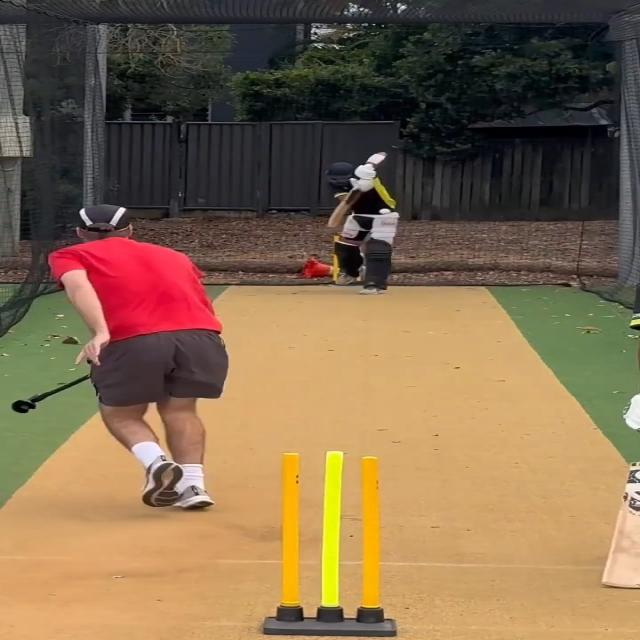ball: (378, 208, 391, 215)
stump: (259, 449, 398, 636)
